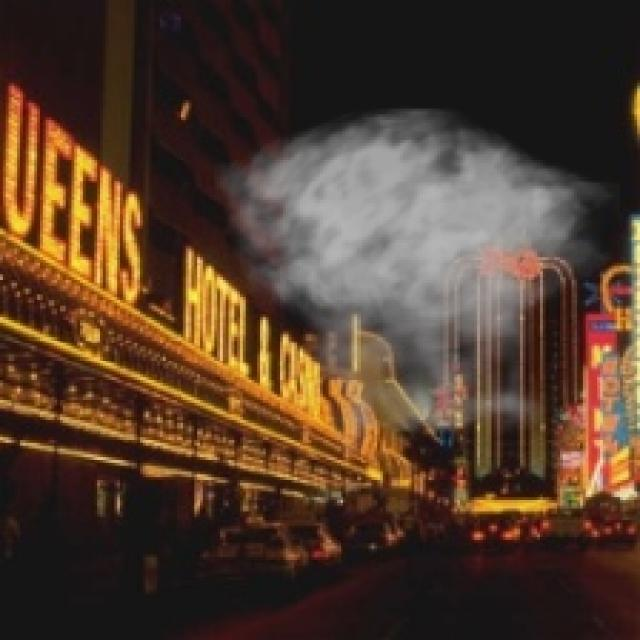Smoke: (215, 106, 620, 466)
